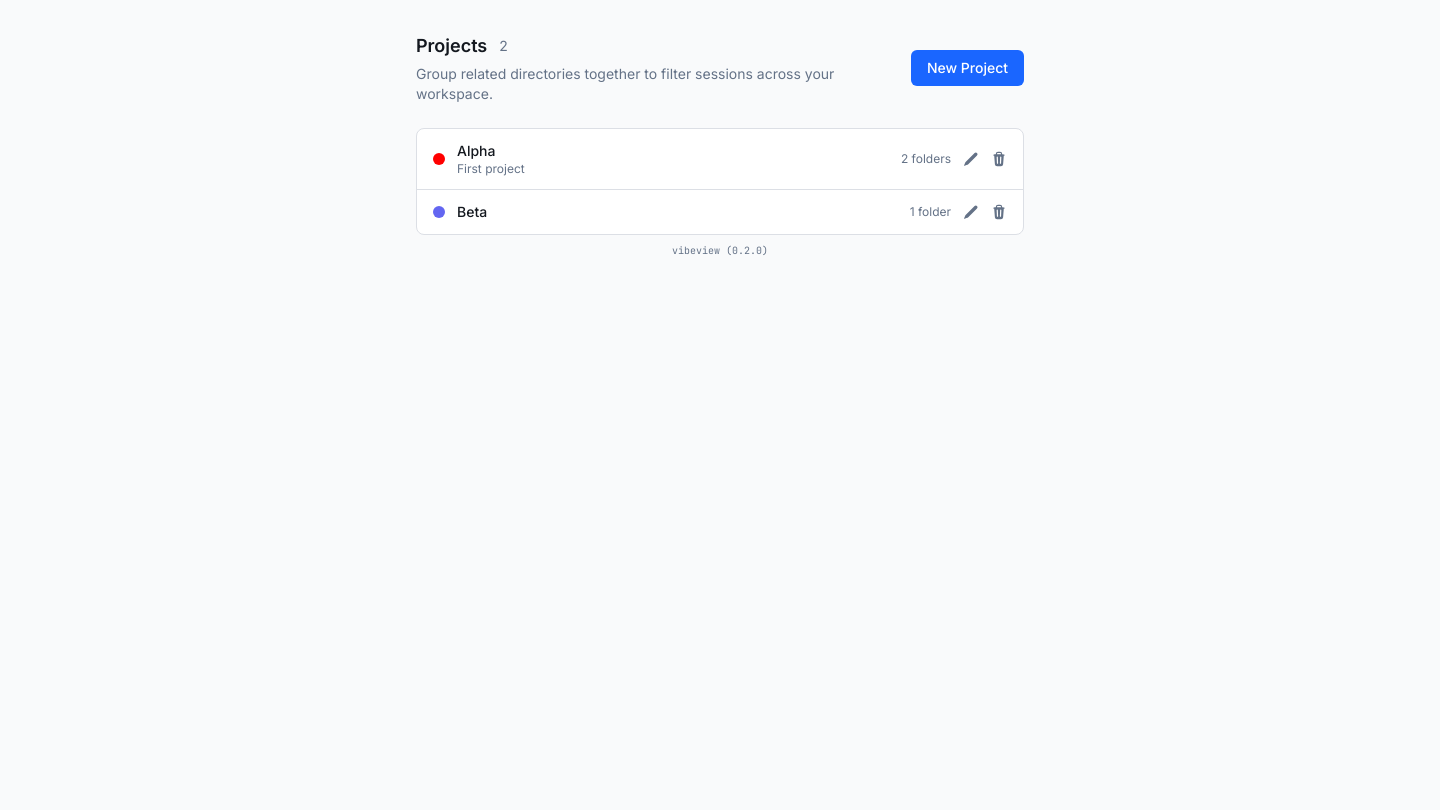
Test: ProjectList › opens create dialog when New Project clicked
Click the button "New Project": (967, 68) [911,50,1024,86]
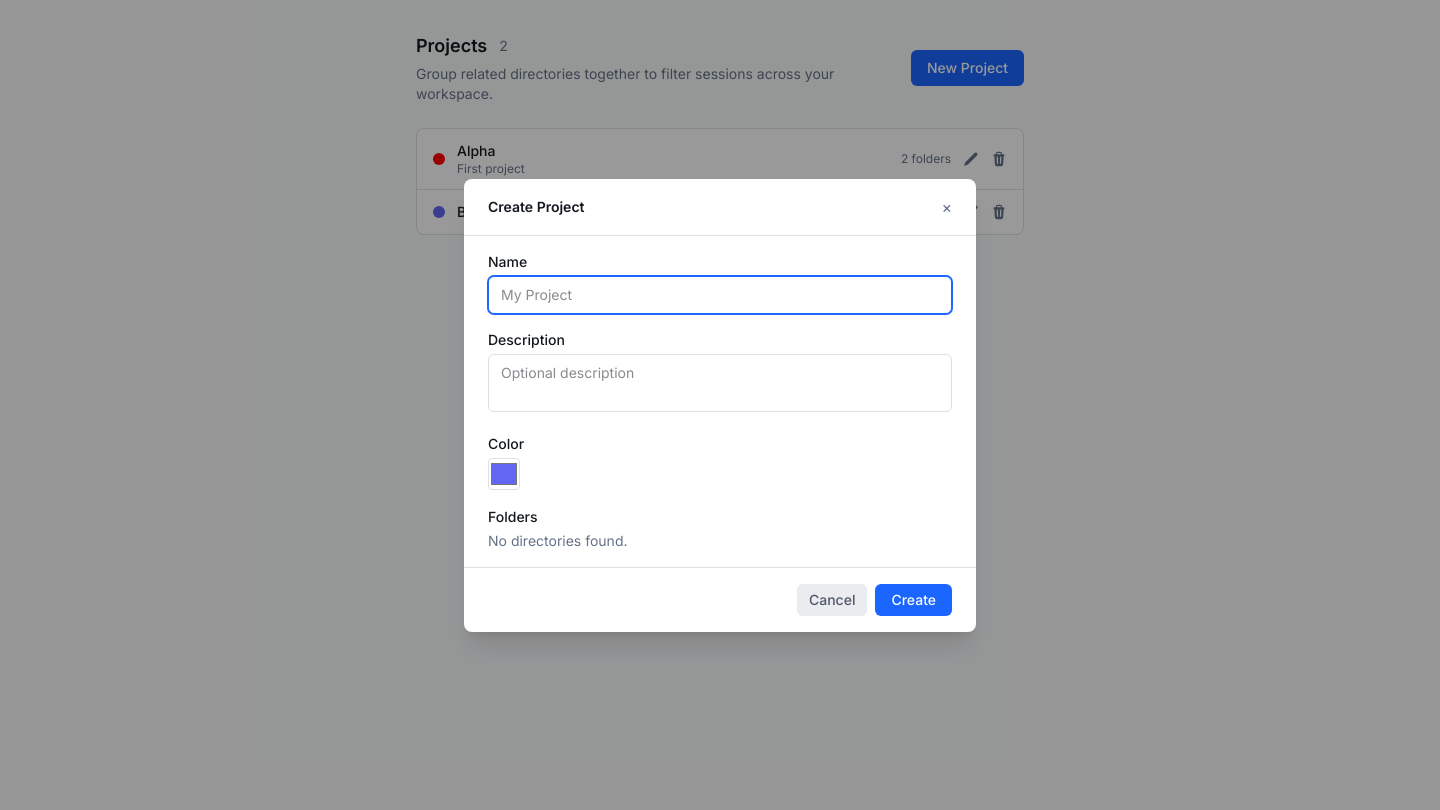
Expected: the heading "Create Project" is shown, [488,196,584,216]
